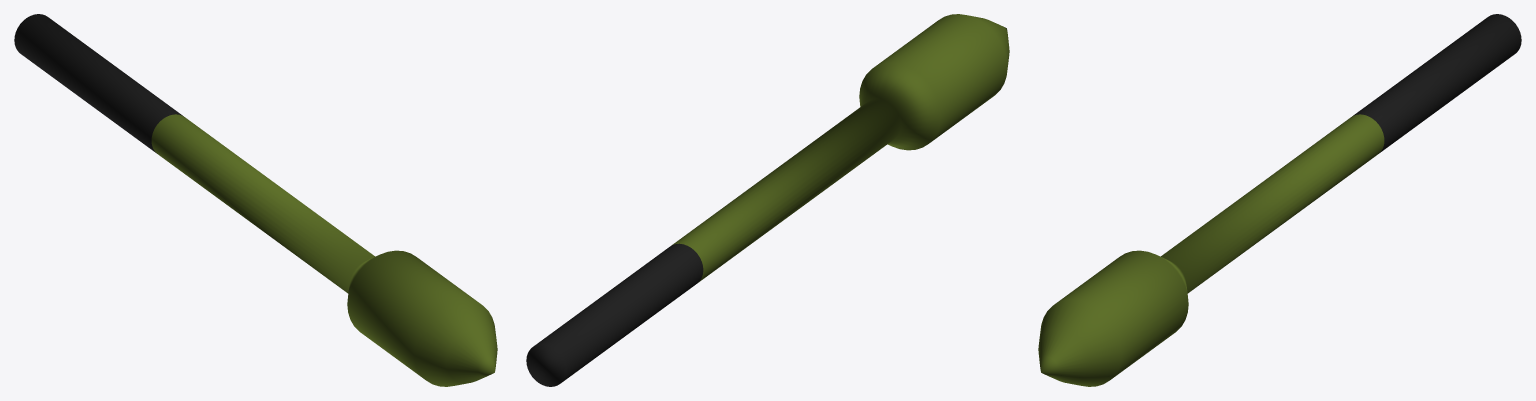
Rendered from rocket.fbx.
The picture shows the model from 3 angles, left to right: view 1: azimuth 30°, elevation 25°; view 2: azimuth 150°, elevation 25°; view 3: azimuth 330°, elevation 25°; orthographic projection.
Visible parts, largest first — view 1: Cylinder; view 2: Cylinder; view 3: Cylinder.
Boxes of the visible parts, x1,y1,x2,y2 form: Cylinder: [14, 14, 497, 386]; Cylinder: [526, 14, 1009, 386]; Cylinder: [1038, 14, 1521, 386].
Size of the model in its own units: 8.5 by 8.5 by 83.15.
